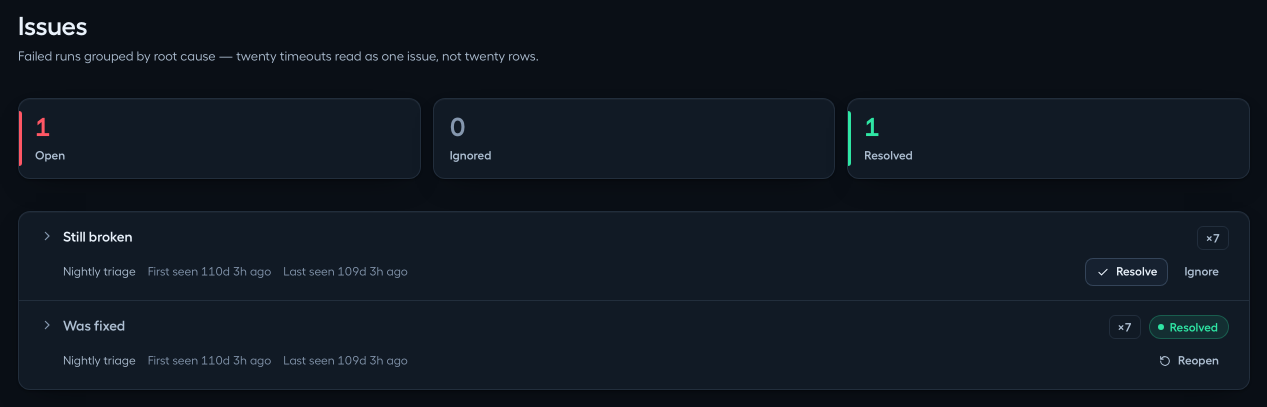
Test case: Issues › filters to one state when its counter is pressed
This screenshot has width=1267, height=407.
Expected: the text "Was fixed" is shown, [63,314,125,334]
Click the button "1 Open". click: [50, 155]
box: [18,98,421,178]
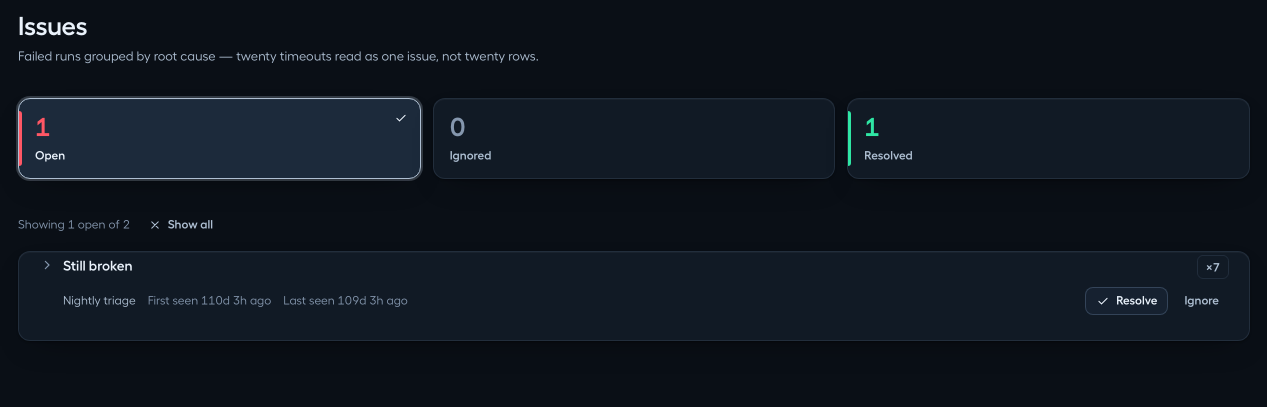
Expected: the text "Still broken" is shown, [63,263,133,283]
Now the button "Was fixed" is gone
Now the text "Showing 1 open of 2" is shown, box [18,216,130,233]
